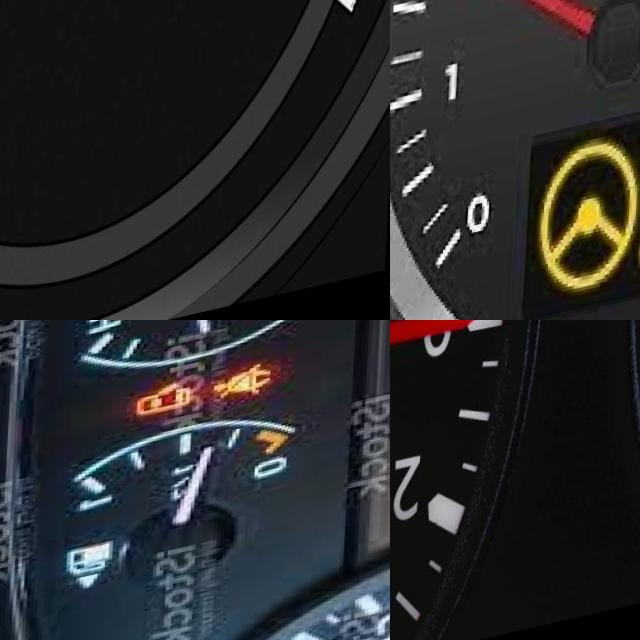Electronic Power Steering: (541, 141, 640, 313)
Seat Belt: (212, 367, 283, 416)
